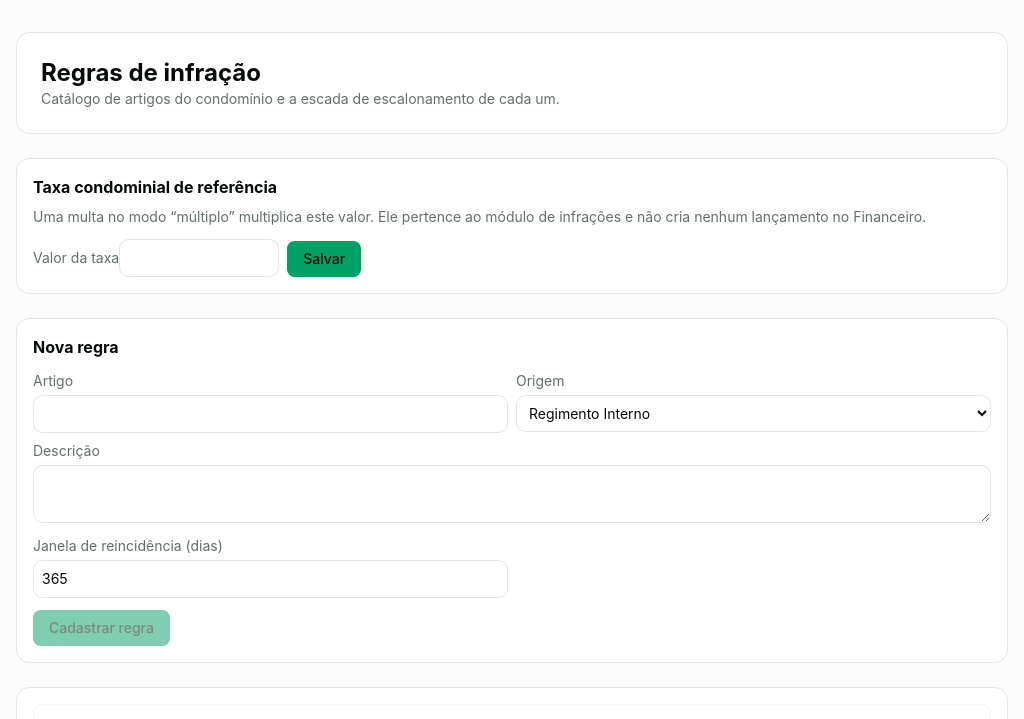
Test: InfractionRulesPage › limits the condominium-fee reference to two decimals
Step 1. Type "1200.019" into the number field labelled "Valor da taxa" → (199, 258), box [119,239,279,277]
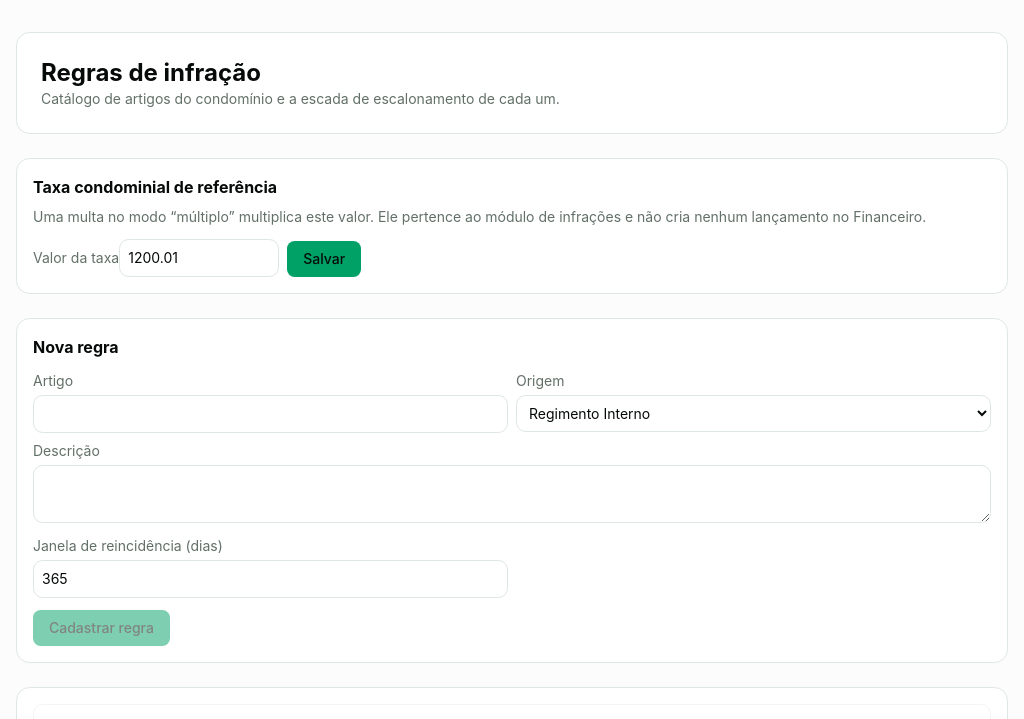
Expected: the number field labelled "Valor da taxa" holds "1200.01", [119,239,279,277]
